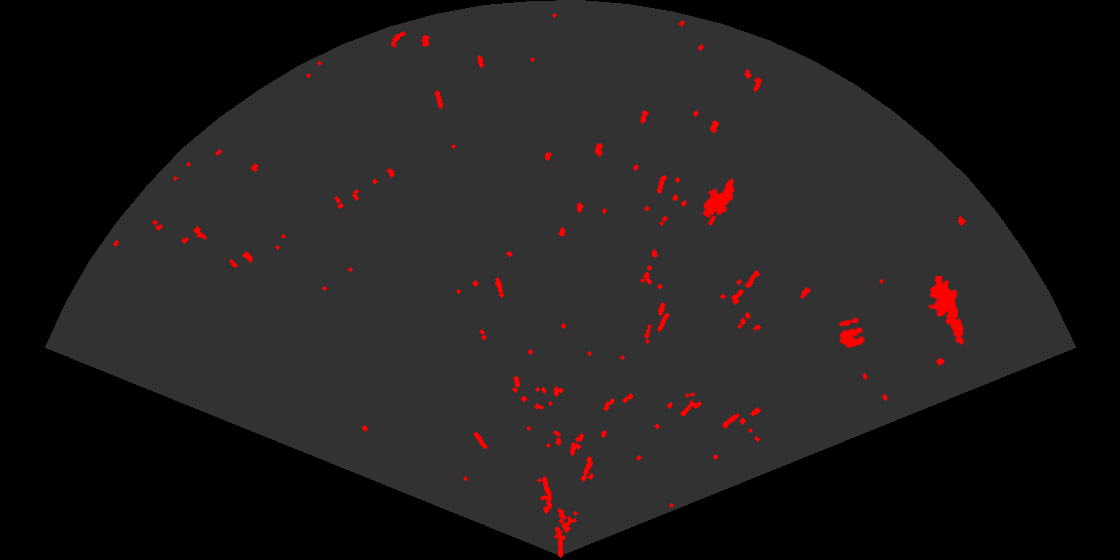AUV: (701, 177, 736, 220)
ball: (837, 316, 867, 350)
frogman: (927, 276, 965, 345)
